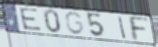0: (43, 9, 63, 34)
5: (85, 12, 106, 39)
E: (18, 7, 43, 32)
F: (126, 15, 150, 42)
G: (64, 10, 85, 36)
I: (118, 15, 127, 40)
